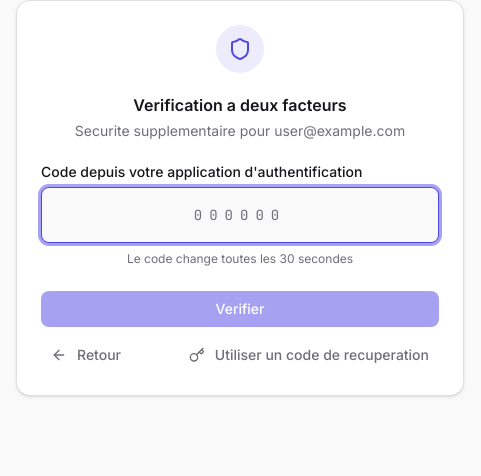
Test: MFAVerify › Navigation au clavier › soumet le formulaire avec la touche Entree
// Type 5 digits to have a non-complete code but test Enter key with manual typing
In the field with placeholder "000000": (240, 215) [41,187,439,243], type "12345"
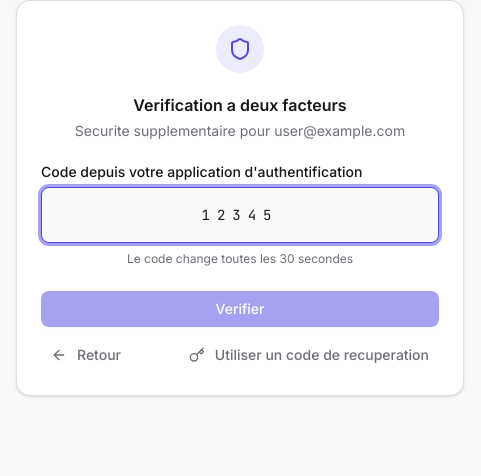
// Clear and type 5 chars - verify manual submit via Enter
Replace the text in the field with placeholder "000000" with "123": (240, 215) [41,187,439,243]
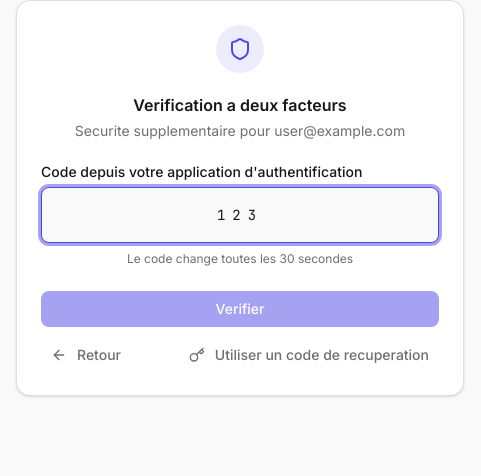
// Press Enter - should trigger handleVerify which will show error for incomplete code
Press Enter
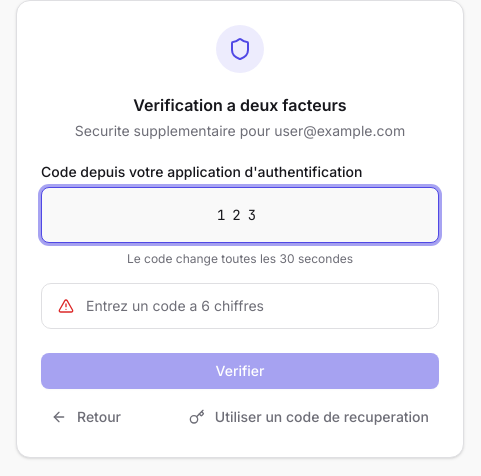
Check: the text "Entrez un code a 6 chiffres" is shown, box [86,297,264,314]
